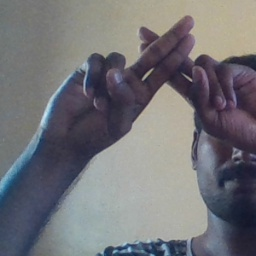F: (104, 10, 227, 119)
